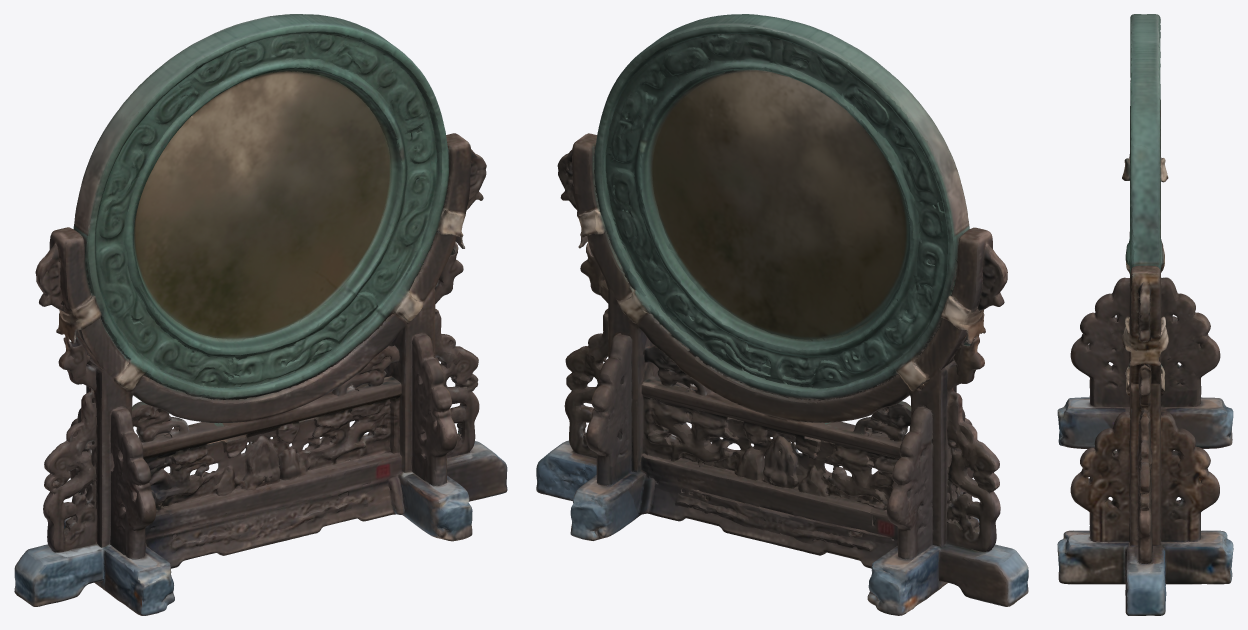
File: 孽镜台_karma_mirror.glb
3 renders of one model, left to right at view 1: azimuth 30°, elevation 25°; view 2: azimuth 150°, elevation 25°; view 3: azimuth 270°, elevation 25°, orthographic. The views are drawn at different scales.
Parts seen in each view (by area): view 1: geometry_0; view 2: geometry_0; view 3: geometry_0.
Boxes of the visible parts, x1=… form: geometry_0: x1=14, y1=14, x2=507, y2=615; geometry_0: x1=536, y1=14, x2=1028, y2=615; geometry_0: x1=1057, y1=14, x2=1233, y2=615.
Bounding box in the file's own units: 0.5001 × 0.52 × 0.1746.
1 material, 1 textured.
